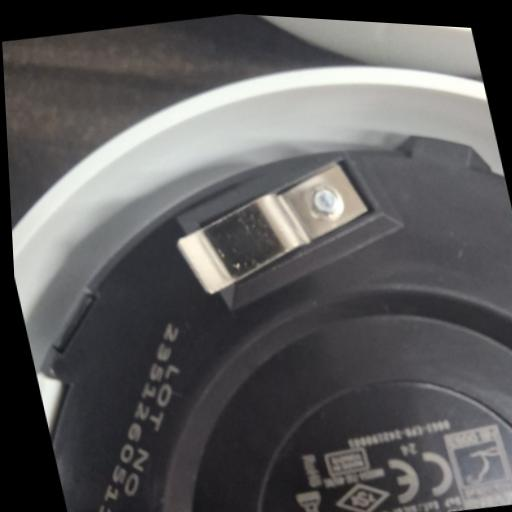yaysiz: (158, 144, 389, 311)
